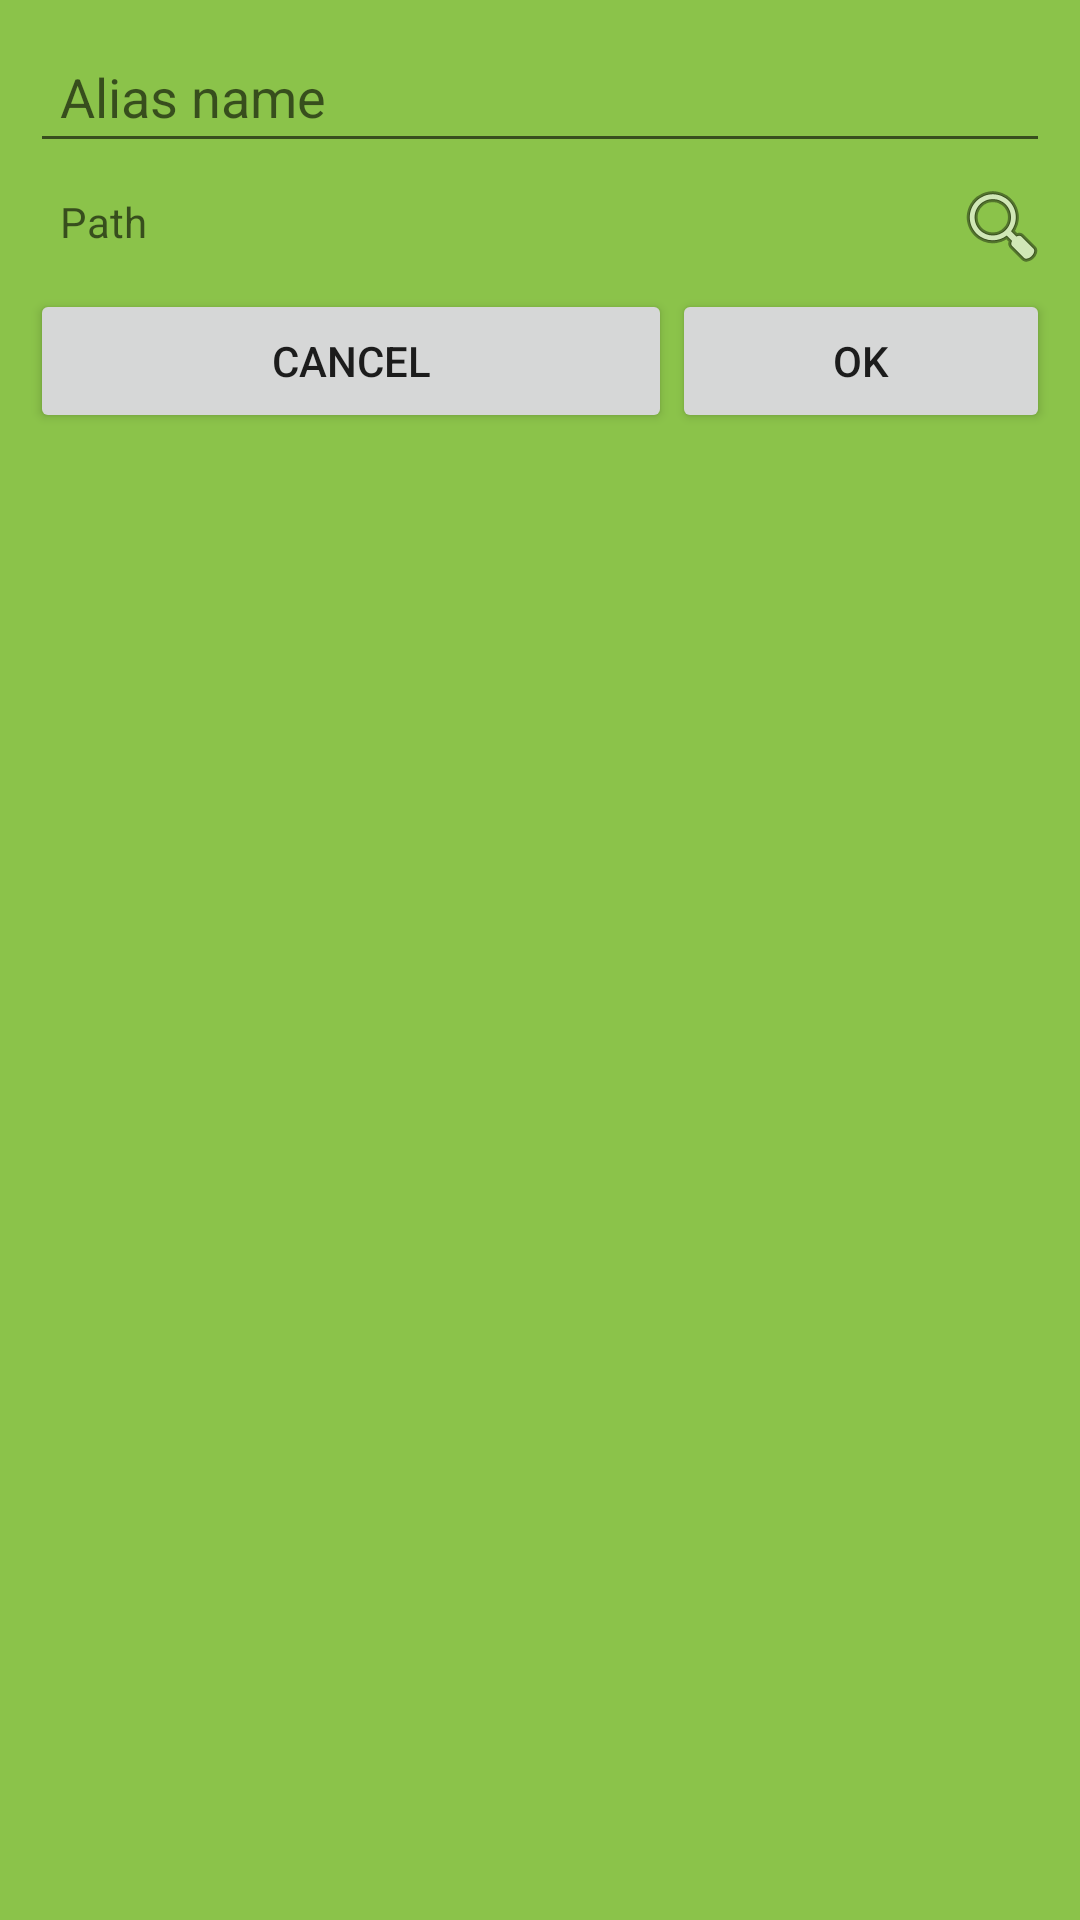

Screen size 1080px×1920px. Icon name, then its box in pixels as bbox(x1, y1, x2, y2):
search: bbox(967, 191, 1037, 262)
